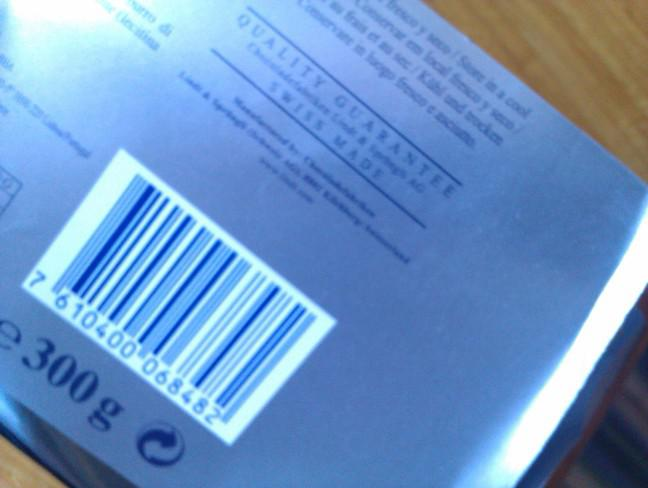Barkod: (19, 151, 333, 446)
